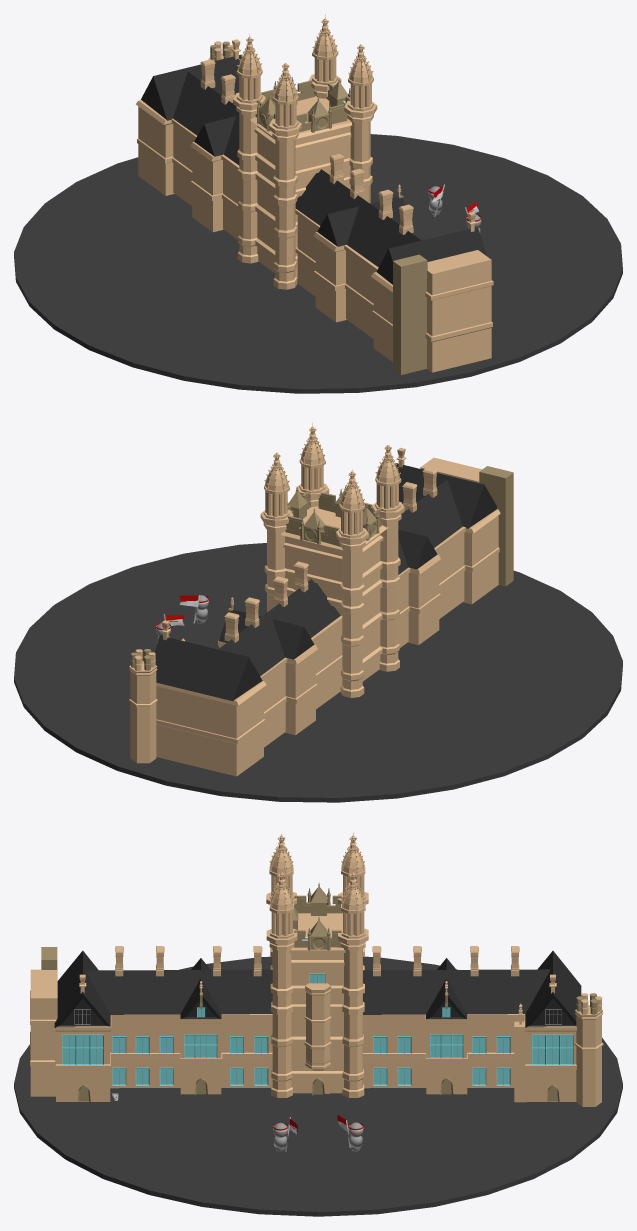
The model's file is usyd.glb.
The picture shows the model from 3 angles, top to bottom: view 1: azimuth 30°, elevation 25°; view 2: azimuth 150°, elevation 25°; view 3: azimuth 270°, elevation 25°; orthographic projection.
Parts seen in each view (by area): view 1: Cylinder.011, Cube.012, Cube, Cylinder.003, Cylinder.002, Cube.025, Cube.013, Cube.008, Cylinder.014, Cube.005, Cube.006, Cube.024 (+9 smaller); view 2: Cylinder.011, Cube.005, Cube, Cylinder.002, Cube.015, Cylinder.003, Cube.024, Cube.006, Cube.008, Cylinder.001, Cube.011, Cylinder (+11 smaller); view 3: Cylinder.011, Cube.025, Cube.024, Cube.008, Cube.006, Cube, Cylinder.014, Cylinder.001, Cube.012, Cube.011, Cube.014, Cube.015 (+12 smaller).
Part boxes in pixels (x1=…): Cylinder.011: x1=14, y1=134, x2=622, y2=393; Cube.012: x1=425, y1=250, x2=493, y2=372; Cube: x1=250, y1=96, x2=351, y2=278; Cylinder.003: x1=269, y1=63, x2=301, y2=289; Cylinder.002: x1=233, y1=34, x2=265, y2=263; Cube.025: x1=295, y1=169, x2=421, y2=267; Cube.013: x1=393, y1=254, x2=427, y2=374; Cube.008: x1=295, y1=209, x2=378, y2=338; Cylinder.014: x1=344, y1=44, x2=377, y2=203; Cube.005: x1=136, y1=100, x2=236, y2=195; Cube.006: x1=171, y1=118, x2=239, y2=239; Cube.024: x1=173, y1=71, x2=239, y2=165; Cylinder.011: x1=14, y1=543, x2=622, y2=802; Cube.005: x1=156, y1=681, x2=266, y2=776; Cube: x1=281, y1=506, x2=388, y2=681; Cylinder.002: x1=336, y1=469, x2=368, y2=697; Cube.015: x1=155, y1=635, x2=262, y2=701; Cylinder.003: x1=372, y1=445, x2=404, y2=671; Cube.024: x1=218, y1=579, x2=340, y2=676; Cube.006: x1=260, y1=615, x2=342, y2=747; Cube.008: x1=398, y1=526, x2=465, y2=647; Cylinder.001: x1=260, y1=452, x2=293, y2=612; Cube.011: x1=463, y1=509, x2=500, y2=604; Cylinder: x1=129, y1=661, x2=157, y2=763; Cylinder.011: x1=14, y1=956, x2=622, y2=1216; Cube.025: x1=85, y1=969, x2=272, y2=1014; Cube.024: x1=363, y1=969, x2=550, y2=1014; Cube.008: x1=110, y1=1014, x2=272, y2=1088; Cube.006: x1=363, y1=1014, x2=525, y2=1088; Cube: x1=289, y1=913, x2=345, y2=1093; Cylinder.014: x1=266, y1=869, x2=297, y2=1097; Cylinder.001: x1=338, y1=869, x2=368, y2=1097; Cube.012: x1=30, y1=969, x2=57, y2=1096; Cube.011: x1=55, y1=1015, x2=111, y2=1101; Cube.014: x1=54, y1=950, x2=110, y2=1027; Cube.015: x1=525, y1=951, x2=581, y2=1027.
Size of the model in its own units: 99.49 by 41.78 by 99.49.
